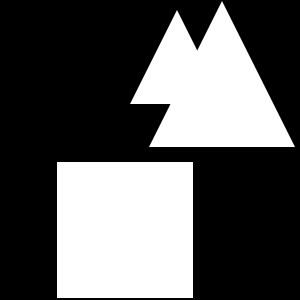circle: (57, 162, 193, 298), (220, 89, 254, 123)
triangle: (149, 1, 295, 147), (130, 10, 224, 104)
